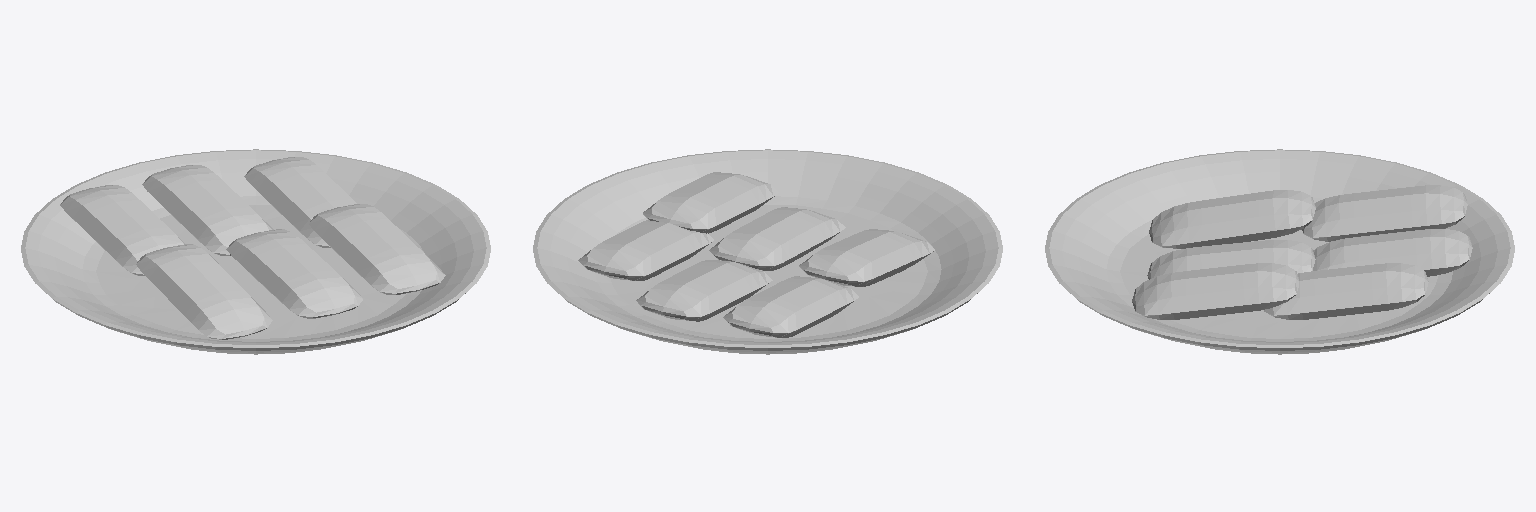
File: baglend .obj
The picture shows the model from 3 angles: view 1: azimuth 30°, elevation 25°; view 2: azimuth 150°, elevation 25°; view 3: azimuth 270°, elevation 25°; orthographic projection.
Visible parts, largest first — view 1: Cylinder, Cube.003, Cube.005, Cube.004, Cube.001, Cube.002, Cube; view 2: Cylinder, Cube.001, Cube.004, Cube.002, Cube, Cube.005, Cube.003; view 3: Cylinder, Cube.005, Cube.003, Cube.002, Cube, Cube.001, Cube.004.
Part boxes in pixels (x1,y1,x2,y2): Cylinder: (21,149,490,354); Cube.003: (136,244,272,339); Cube.005: (309,204,445,294); Cube.004: (226,229,362,318); Cube.001: (142,165,273,255); Cube.002: (60,185,184,275); Cube: (244,157,356,247); Cylinder: (533,149,1002,354); Cube.001: (636,260,772,321); Cube.004: (709,207,845,270); Cube.002: (723,276,858,337); Cube: (578,220,713,280); Cube.005: (643,172,778,233); Cube.003: (799,229,934,286); Cylinder: (1045,149,1514,354); Cube.005: (1132,263,1298,319); Cube.003: (1149,190,1315,248); Cube.002: (1302,185,1467,241); Cube: (1264,263,1428,319); Cube.001: (1313,229,1472,276); Cube.004: (1147,240,1315,279).
Size of the model in its own units: 2.31 by 0.3061 by 2.31.